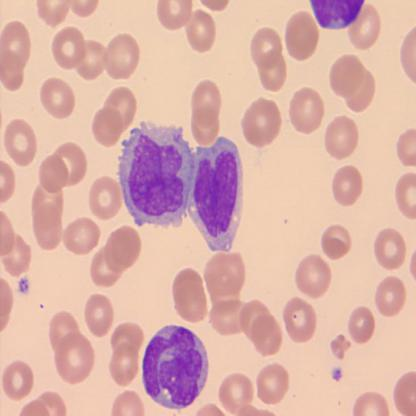Blast: (114, 120, 197, 228), (182, 134, 246, 253)
